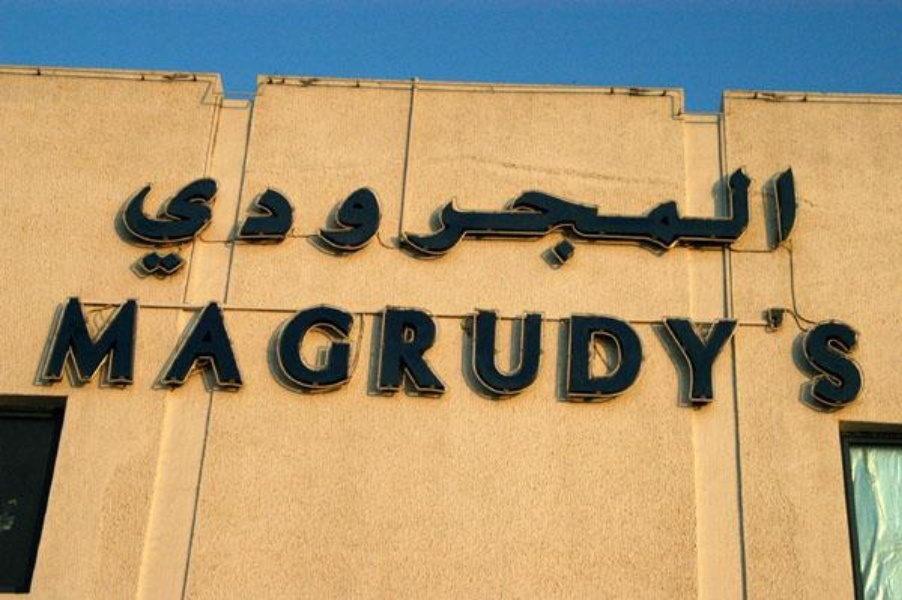text: (65, 295, 80, 417), (81, 295, 96, 417), (97, 295, 112, 417), (113, 295, 128, 417), (129, 295, 144, 417), (145, 295, 160, 417), (161, 295, 176, 417), (177, 295, 192, 417), (193, 295, 208, 417), (209, 295, 224, 417), (225, 295, 240, 417), (241, 295, 256, 417), (257, 295, 272, 417), (273, 295, 288, 417), (289, 295, 304, 417), (305, 295, 320, 417), (321, 295, 336, 417), (337, 295, 352, 417), (353, 295, 368, 417), (369, 295, 384, 417), (385, 295, 400, 417), (401, 295, 416, 417), (417, 295, 432, 417), (433, 295, 448, 417), (449, 295, 464, 417), (465, 295, 480, 417), (481, 295, 496, 417), (497, 295, 512, 417), (513, 295, 528, 417), (529, 295, 544, 417), (545, 295, 560, 417), (561, 295, 576, 417), (577, 295, 592, 417), (593, 295, 608, 417), (609, 295, 624, 417), (625, 295, 640, 417), (641, 295, 656, 417), (657, 295, 672, 417), (673, 295, 688, 417), (689, 295, 704, 417), (705, 295, 720, 417), (721, 295, 736, 417), (737, 295, 752, 417), (753, 295, 768, 417), (769, 295, 784, 417), (785, 295, 800, 417), (801, 295, 816, 417), (817, 295, 832, 417), (833, 295, 848, 417), (849, 295, 864, 417), (129, 167, 144, 282), (145, 167, 160, 282), (161, 167, 176, 282), (177, 167, 192, 282), (193, 167, 208, 282), (209, 167, 224, 282), (225, 167, 240, 282), (241, 167, 256, 282), (257, 167, 272, 282), (273, 167, 288, 282), (289, 167, 304, 282), (305, 167, 320, 282), (321, 167, 336, 282), (337, 167, 352, 282), (353, 167, 368, 282), (369, 167, 384, 282), (385, 167, 400, 282), (401, 167, 416, 282), (417, 167, 432, 282), (433, 167, 448, 282), (449, 167, 464, 282), (465, 167, 480, 282), (481, 167, 496, 282), (497, 167, 512, 282), (513, 167, 528, 282), (529, 167, 544, 282), (545, 167, 560, 282), (561, 167, 576, 282), (577, 167, 592, 282), (593, 167, 608, 282), (609, 167, 624, 282), (625, 167, 640, 282), (641, 167, 656, 282), (657, 167, 672, 282), (673, 167, 688, 282), (689, 167, 704, 282), (705, 167, 720, 282), (721, 167, 736, 282), (737, 167, 752, 282), (753, 167, 768, 282), (769, 167, 784, 282), (785, 167, 800, 282), (58, 295, 64, 417), (865, 295, 868, 417), (125, 167, 128, 282), (801, 167, 802, 282)
